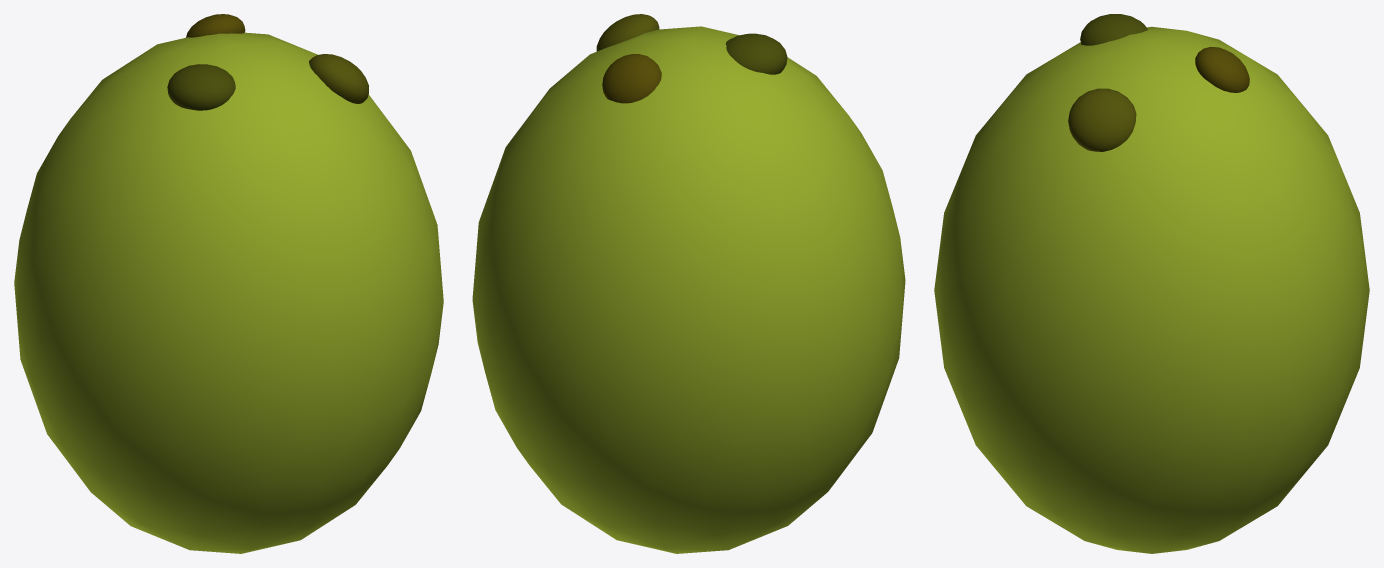
Rendered from coconut.dae.
3 renders of one model, left to right at view 1: azimuth 30°, elevation 25°; view 2: azimuth 150°, elevation 25°; view 3: azimuth 270°, elevation 25°, orthographic.
Visible parts, largest first — view 1: GeoSphere001, GeoSphere002, GeoSphere003, GeoSphere004; view 2: GeoSphere001, GeoSphere004, GeoSphere002, GeoSphere003; view 3: GeoSphere001, GeoSphere003, GeoSphere004, GeoSphere002.
Part boxes in pixels (left/top/right/bottom): GeoSphere001: left=14, top=32, right=443, bottom=553; GeoSphere002: left=167, top=64, right=235, bottom=110; GeoSphere003: left=309, top=54, right=368, bottom=103; GeoSphere004: left=186, top=14, right=245, bottom=37; GeoSphere001: left=472, top=26, right=905, bottom=553; GeoSphere004: left=602, top=54, right=661, bottom=103; GeoSphere002: left=726, top=33, right=787, bottom=74; GeoSphere003: left=596, top=14, right=659, bottom=51; GeoSphere001: left=934, top=26, right=1369, bottom=553; GeoSphere003: left=1068, top=88, right=1136, bottom=151; GeoSphere004: left=1195, top=47, right=1249, bottom=92; GeoSphere002: left=1080, top=14, right=1147, bottom=45.
Bounding box in the file's own units: 0.4005 × 0.4005 × 0.5064.
